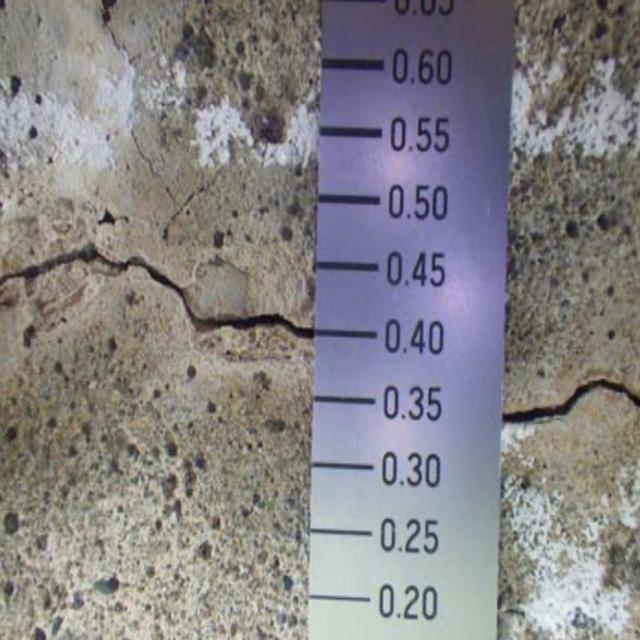crack: (0, 227, 326, 369), (503, 359, 640, 484)
